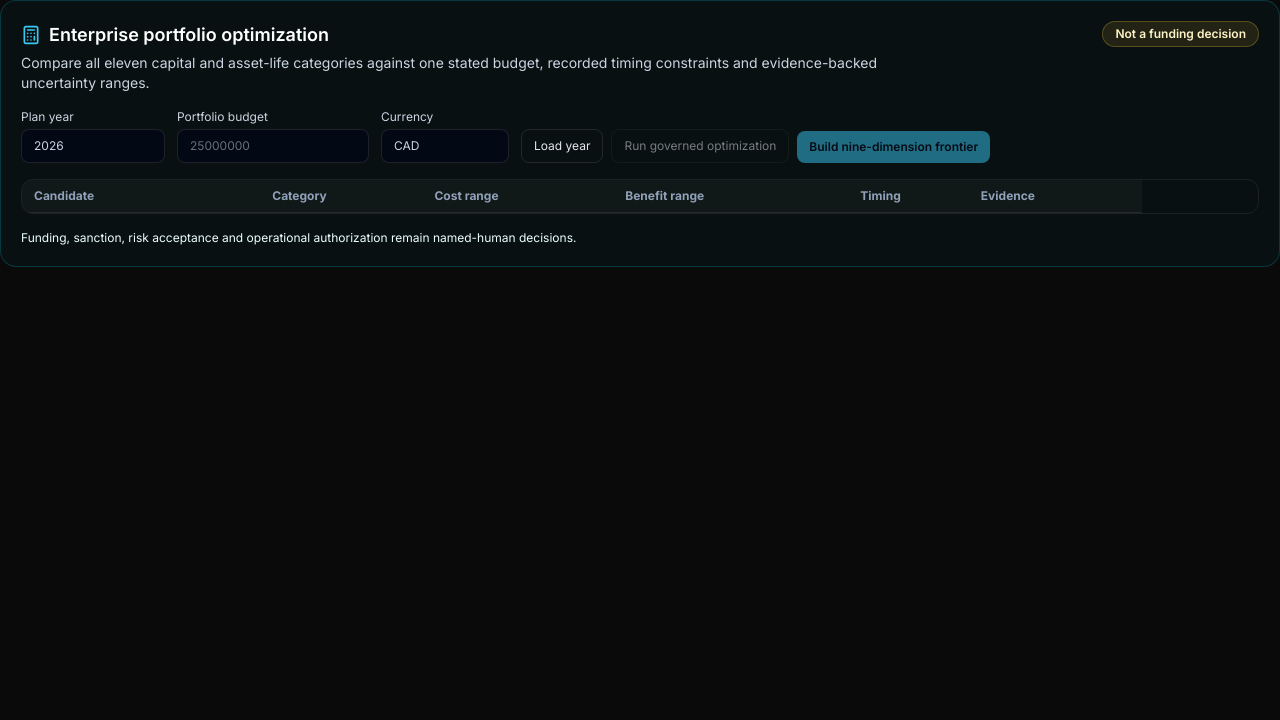
Test: EnterprisePortfolioOptimizationPanel › shows multiple non-dominated portfolios and sends only the named human choice to review
This screenshot has width=1280, height=720.
Expected: the heading "Enterprise portfolio optimization" is shown, [21,24,329,45]
Type "1000000" into the field labelled "Portfolio budget".
click(273, 146); type("1000000")  # box [177,129,369,163]
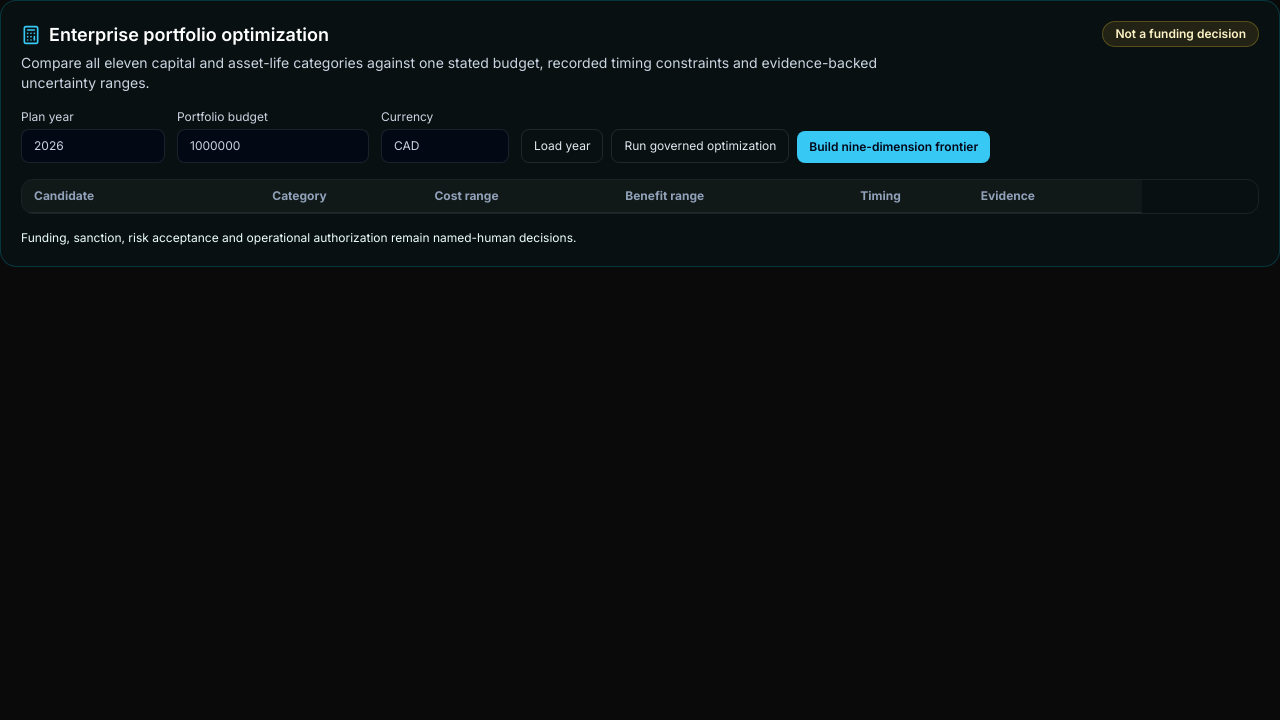
Click the button "Build nine-dimension frontier".
click(894, 147)  # box [797,131,990,163]
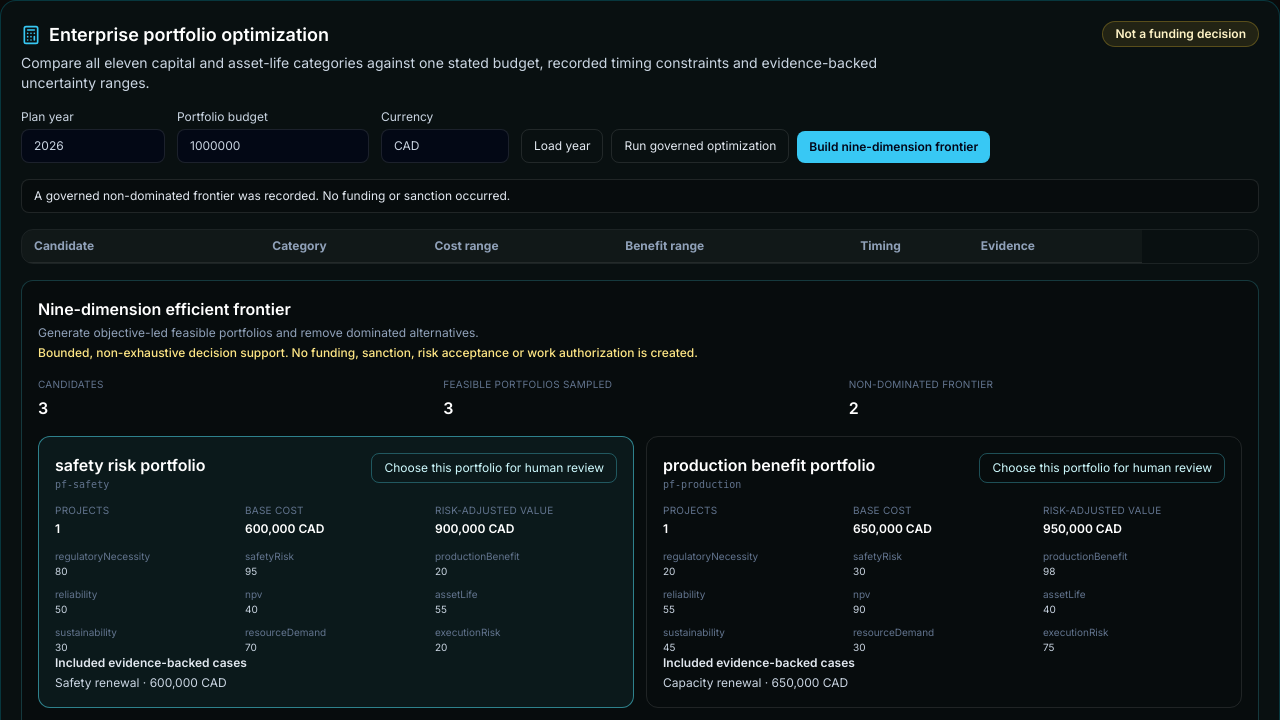
Result: the heading "Nine-dimension efficient frontier" is shown at [38,299,291,319]
Result: the heading "safety risk portfolio" is shown at [55,453,206,477]
Result: the heading "production benefit portfolio" is shown at [663,453,875,477]
Click the button "Choose this portfolio for human review" in the row of "production benefit".
click(1102, 468)  # box [979,453,1225,483]
(page scrolled)
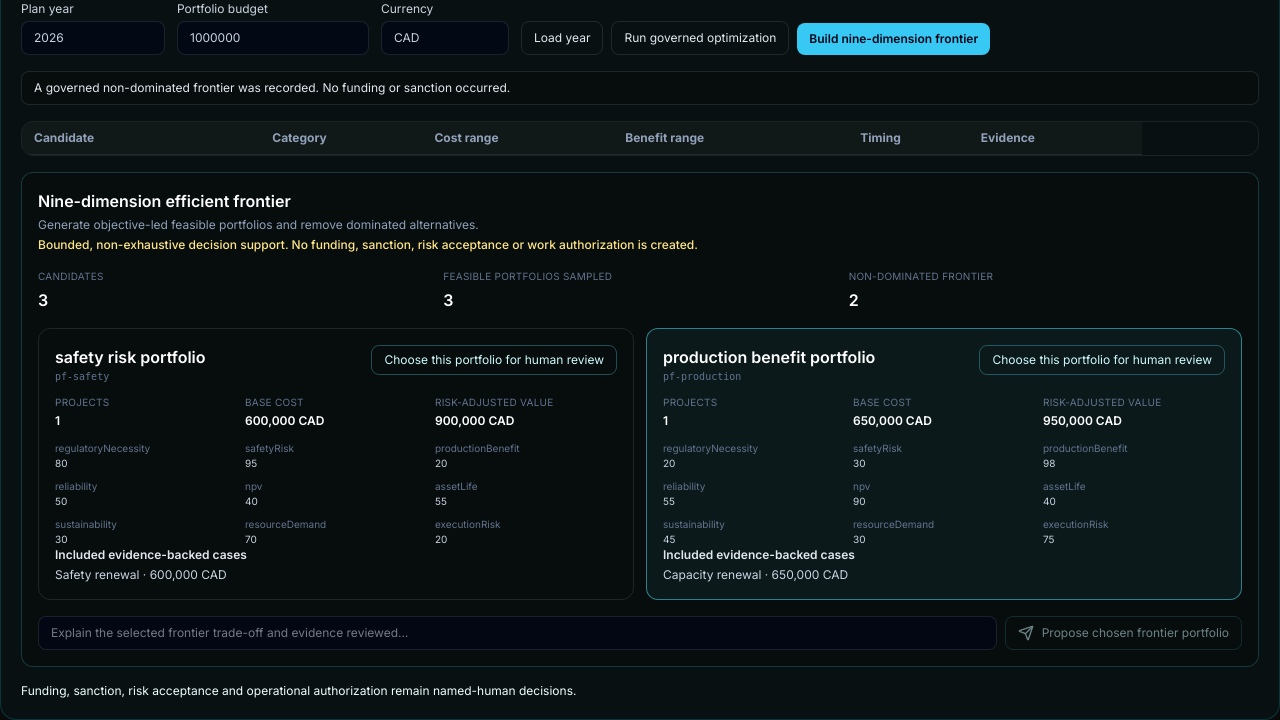
Replace the text in the field with placeholder "selected frontier trade-off" with "Select the production portfolio after reviewing its evidence and execution trade-offs." at (517, 633), box [38,616,997,650]
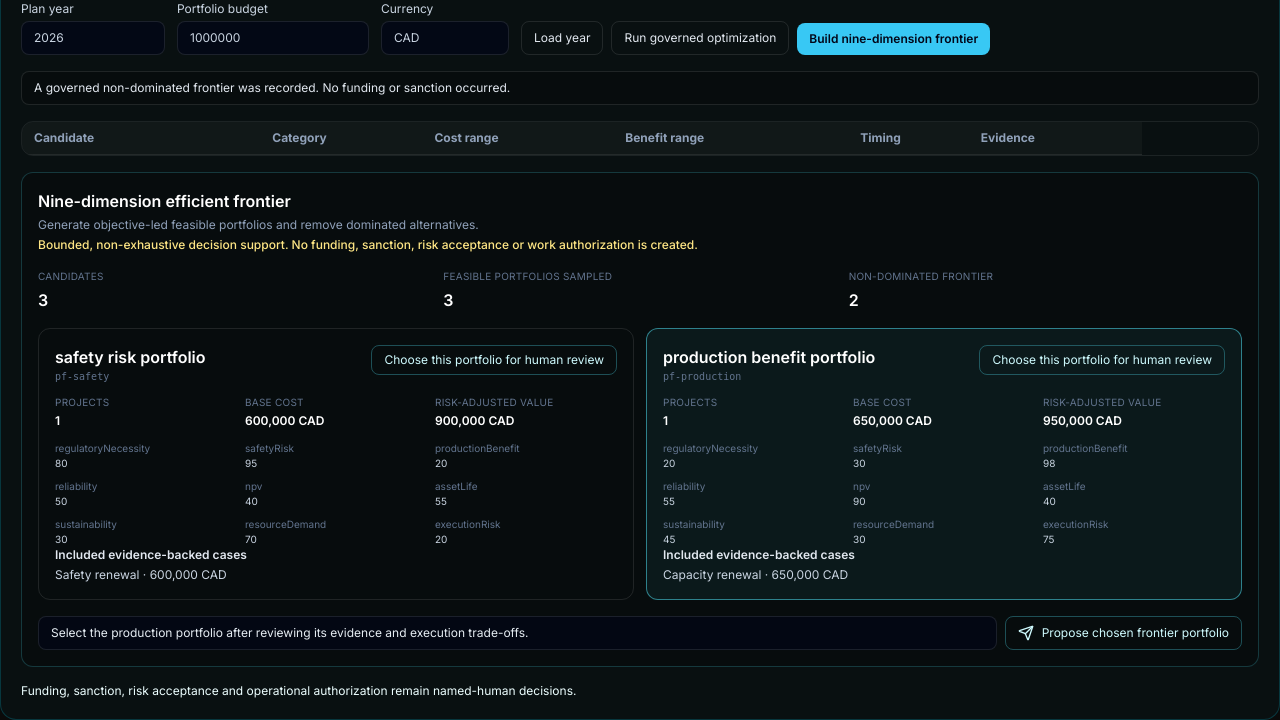
Click the button "Propose chosen frontier portfolio".
click(1123, 633)  # box [1005,616,1242,650]
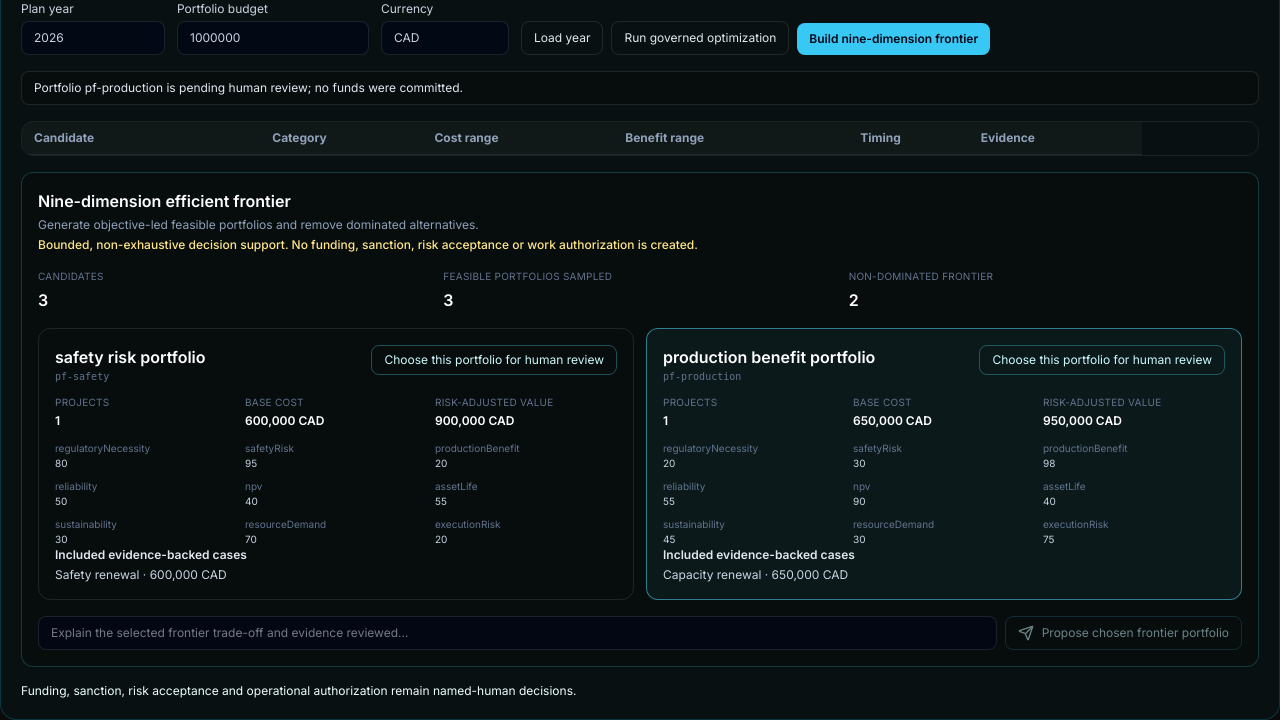
Result: the text "Portfolio pf-production is pending human review; no funds were committed." is shown at [21,71,1259,105]
